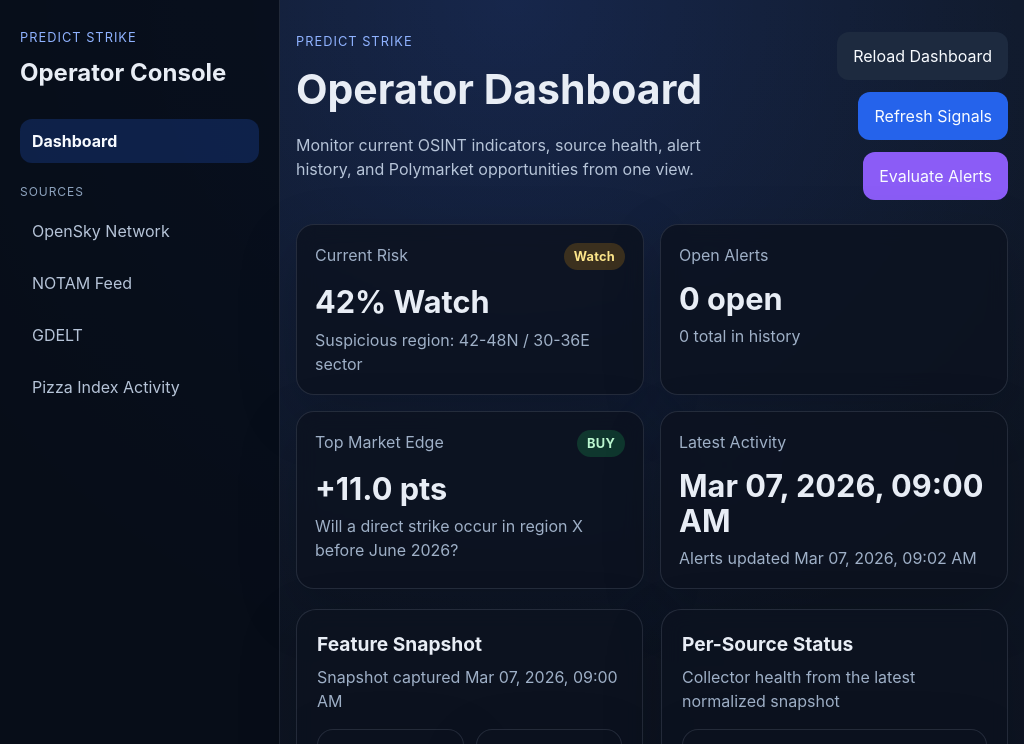
Scenario: App › loads the dashboard and updates alert history after evaluation
Check: the text "42% Watch" is shown, box [315,283,490,320]
Check: the text "Will a direct strike occur in region X before June 2026?" is shown, box [315,514,625,562]
Click the button "Evaluate Alerts": (936, 176) [863,152,1008,200]
(page scrolled)
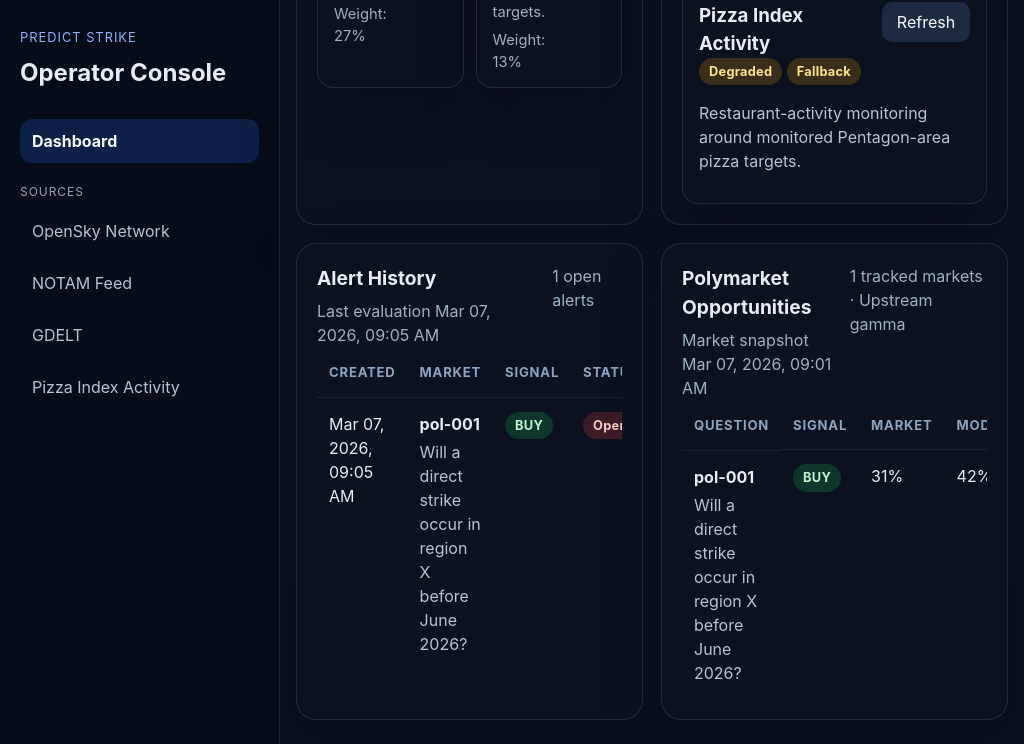
Check: the text "pol-001" in the row of "+11.0 pts" is shown, box [420,414,480,434]
